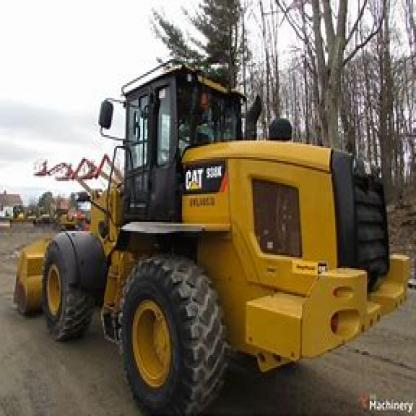bull_dozer/loader/grader: (6, 70, 407, 414)
